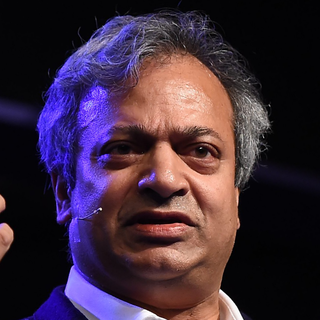eye: (181, 139, 221, 165), (99, 138, 140, 158)
